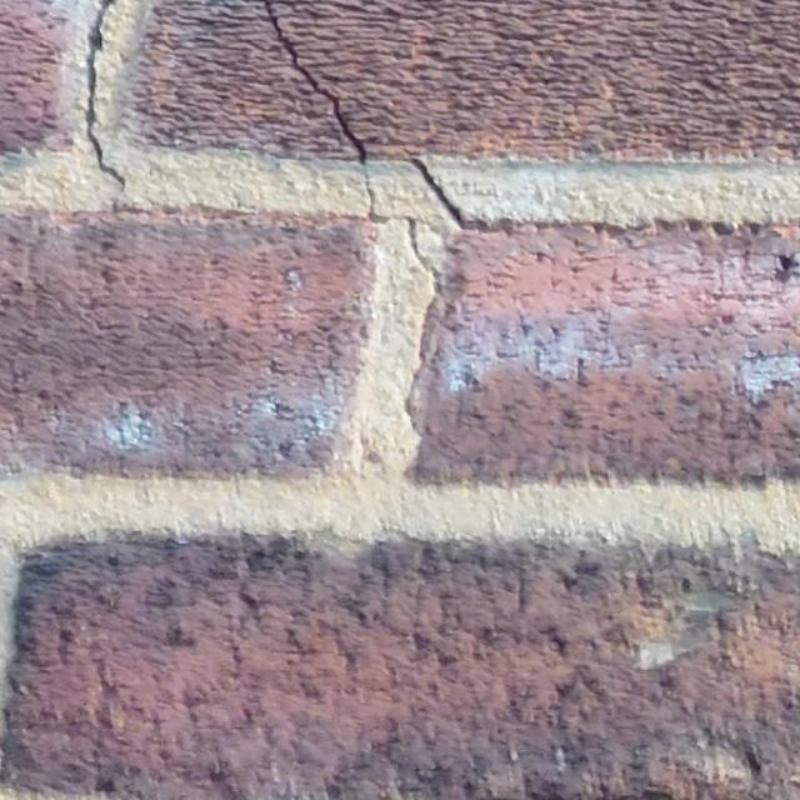crack: (262, 0, 367, 163), (362, 162, 441, 298), (86, 0, 125, 188), (409, 158, 467, 227)
